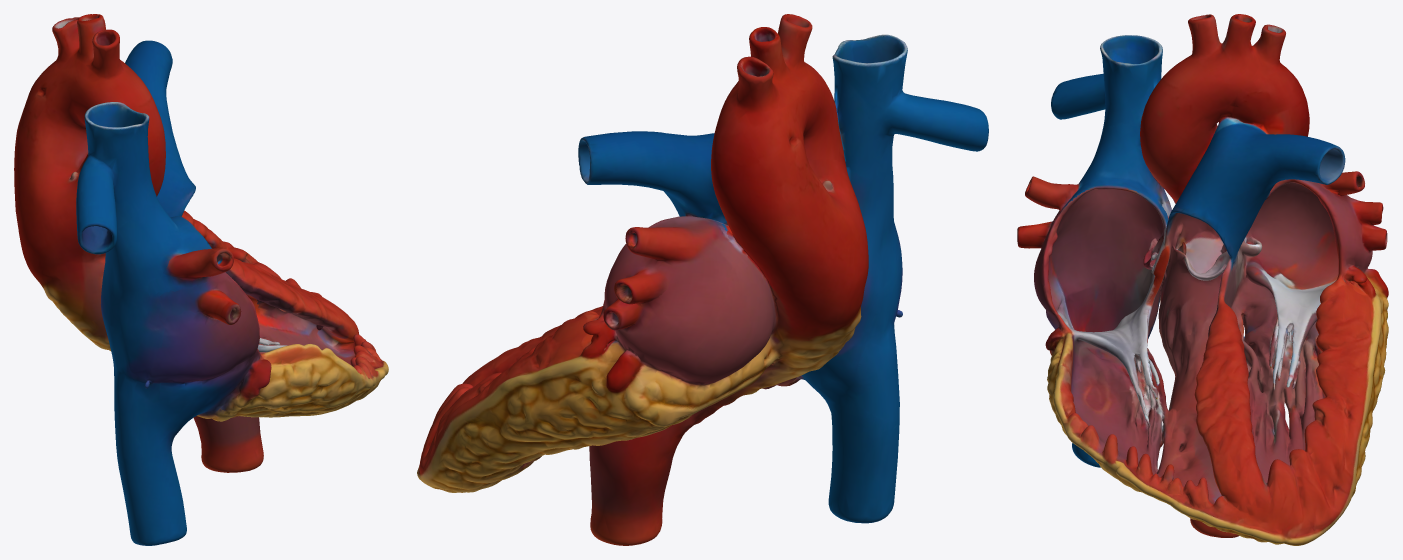
File: heart-interior.glb
3 renders of one model, left to right at view 1: azimuth 30°, elevation 25°; view 2: azimuth 150°, elevation 25°; view 3: azimuth 270°, elevation 25°, orthographic. The views are drawn at different scales.
Parts seen in each view (by area): view 1: Object_4; view 2: Object_4; view 3: Object_4.
Part boxes in pixels (bbox=[...]): Object_4: bbox=[14, 14, 388, 545]; Object_4: bbox=[417, 14, 988, 545]; Object_4: bbox=[1017, 14, 1388, 545].
Size of the model in its own units: 0.84 by 0.9999 by 0.7461.
1 material, 1 textured.
